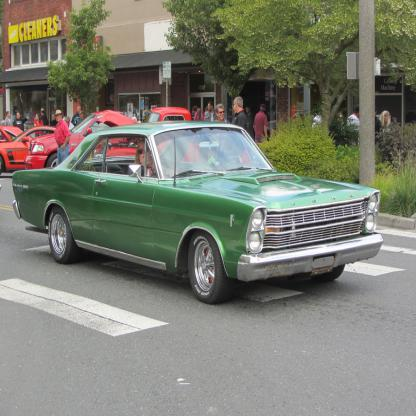Car: (0, 107, 386, 306)
